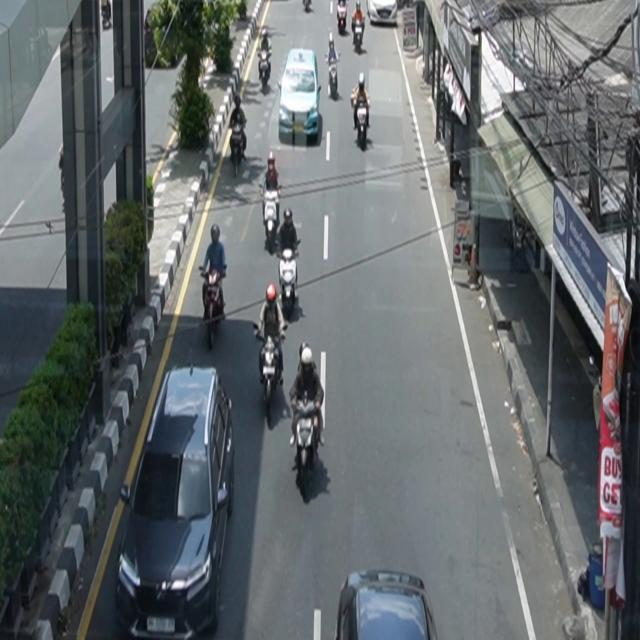car: (116, 364, 236, 640), (335, 570, 439, 640), (279, 48, 322, 143)
